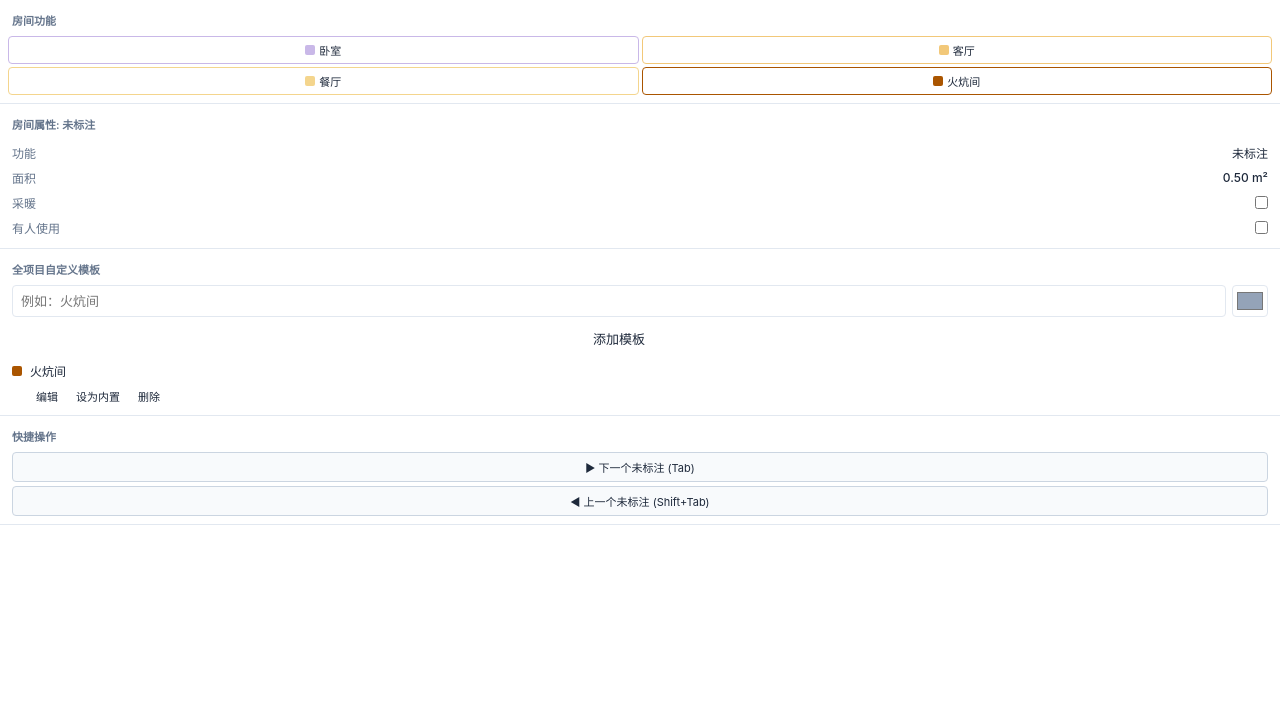
Scenario: RoomLabelPanel › creates and updates reusable templates
Expected: the button "火炕间" is shown, [642, 67, 1272, 95]
Type "储藏间" into the field named "自定义模板名称". click: (619, 301)
box: [12, 285, 1226, 317]
Type "#123456" into the colour field named "自定义模板颜色". click: (1250, 301)
box: [1232, 285, 1268, 317]
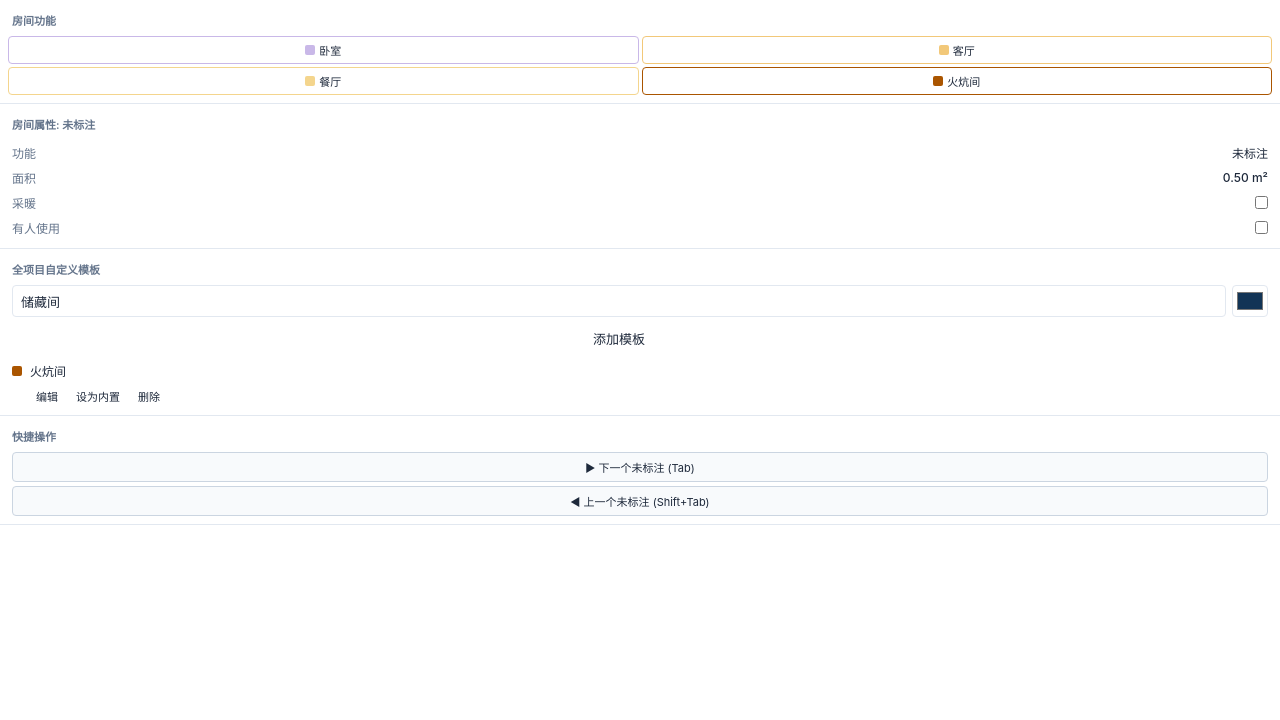
Click the button "添加模板". click: (619, 338)
box: [12, 323, 1226, 354]
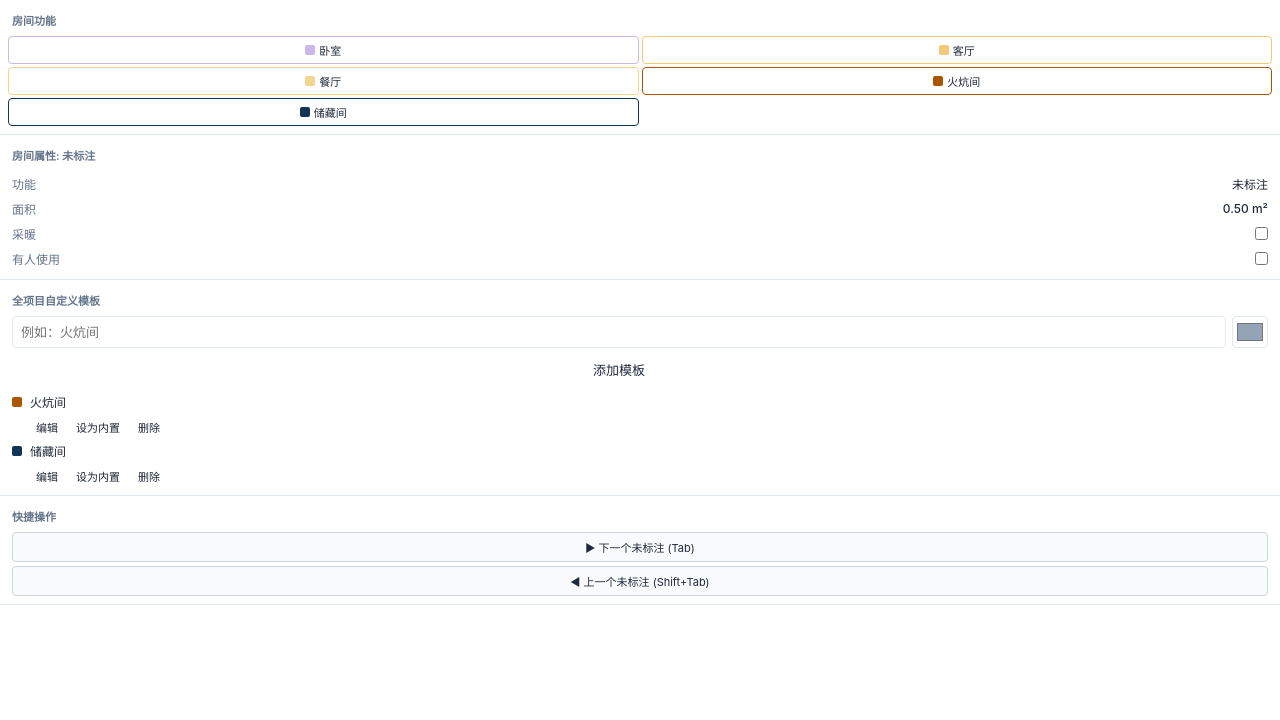
Expected: the button "储藏间" is shown, [8, 98, 638, 126]
Click the button with aria-label "编辑模板 火炕间". click: (47, 427)
box: [30, 416, 64, 438]
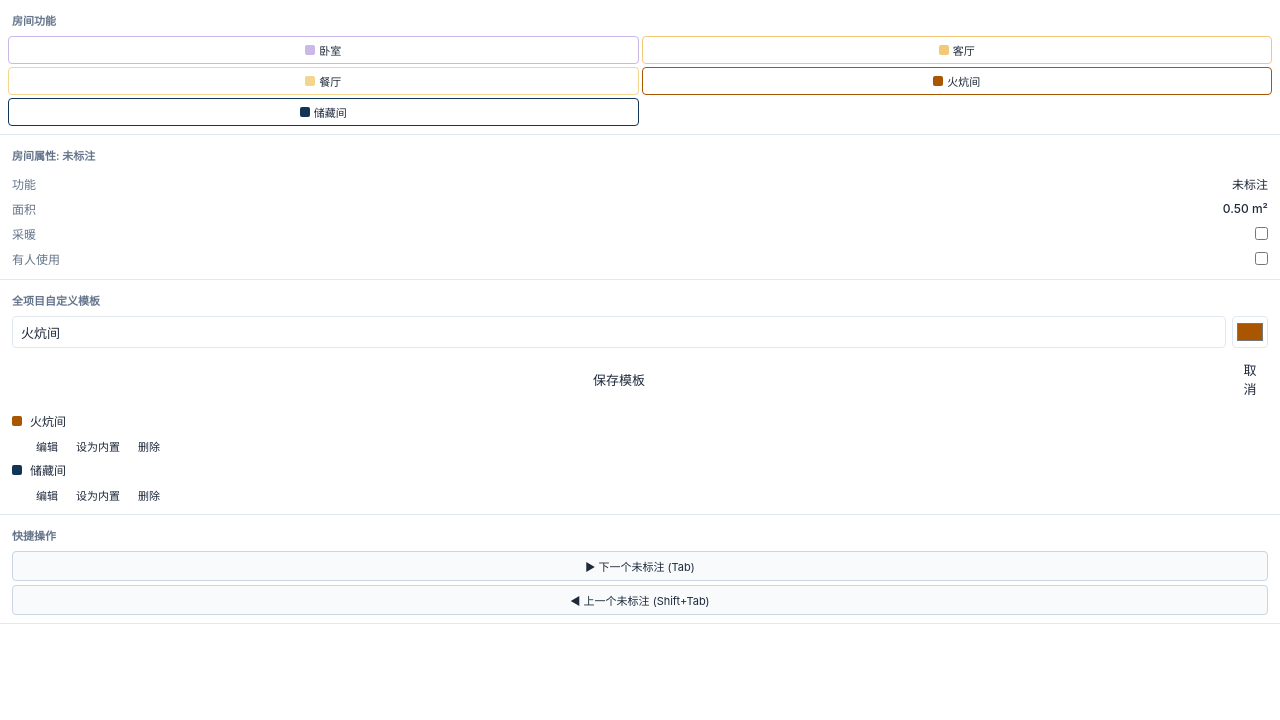
Replace the text in the field named "自定义模板名称" with "冬季起居室". click: (619, 332)
box: [12, 316, 1226, 348]
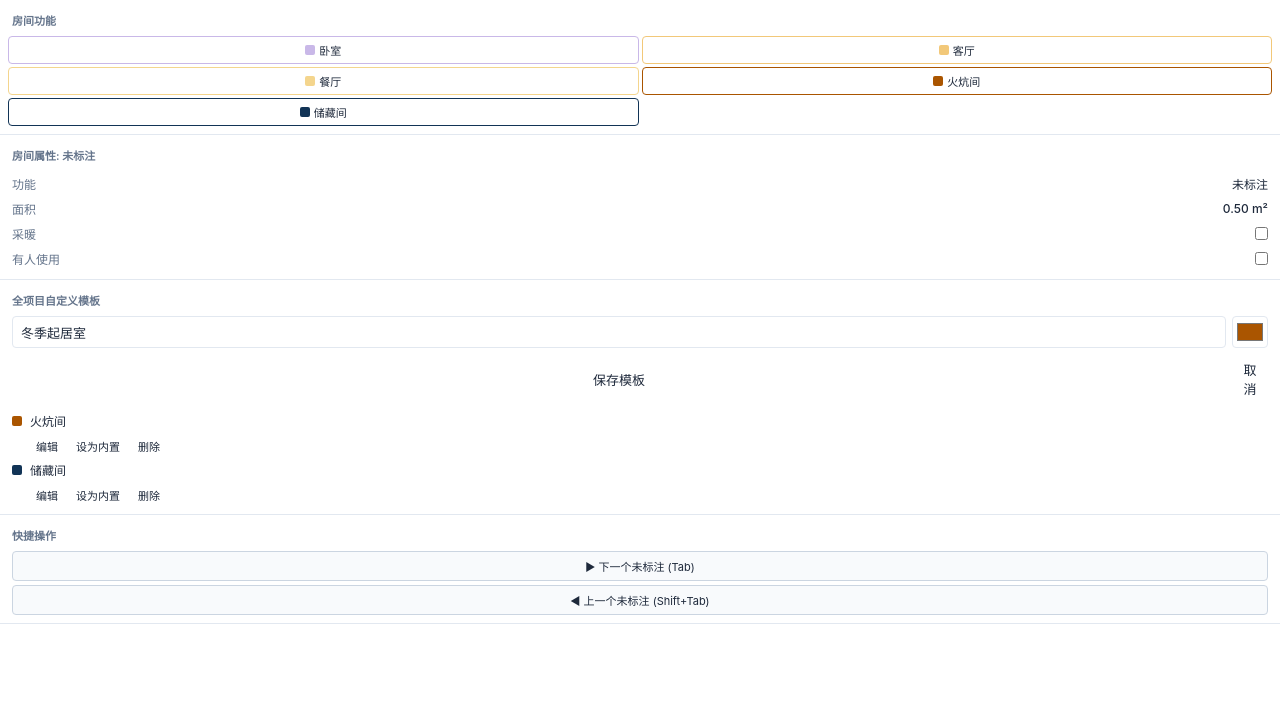
Type "#654321" into the colour field named "自定义模板颜色". click: (1250, 332)
box: [1232, 316, 1268, 348]
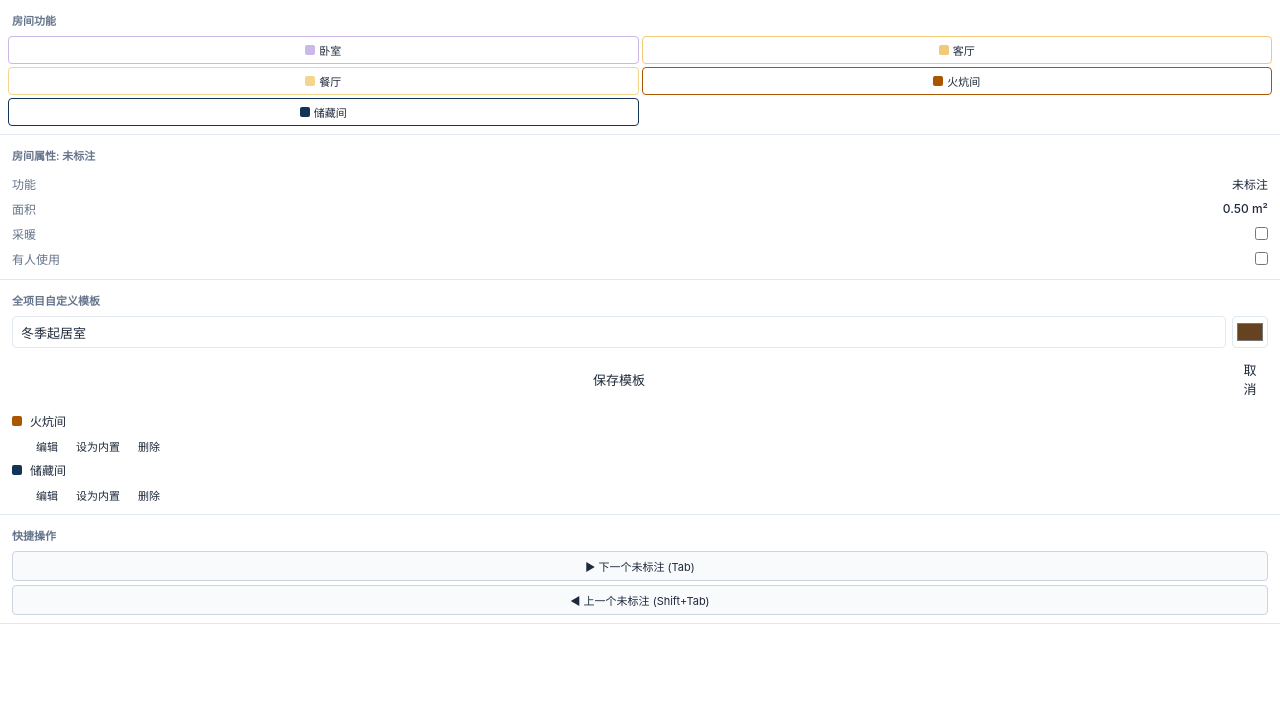
Click the button "保存模板". click: (619, 379)
box: [12, 354, 1226, 404]
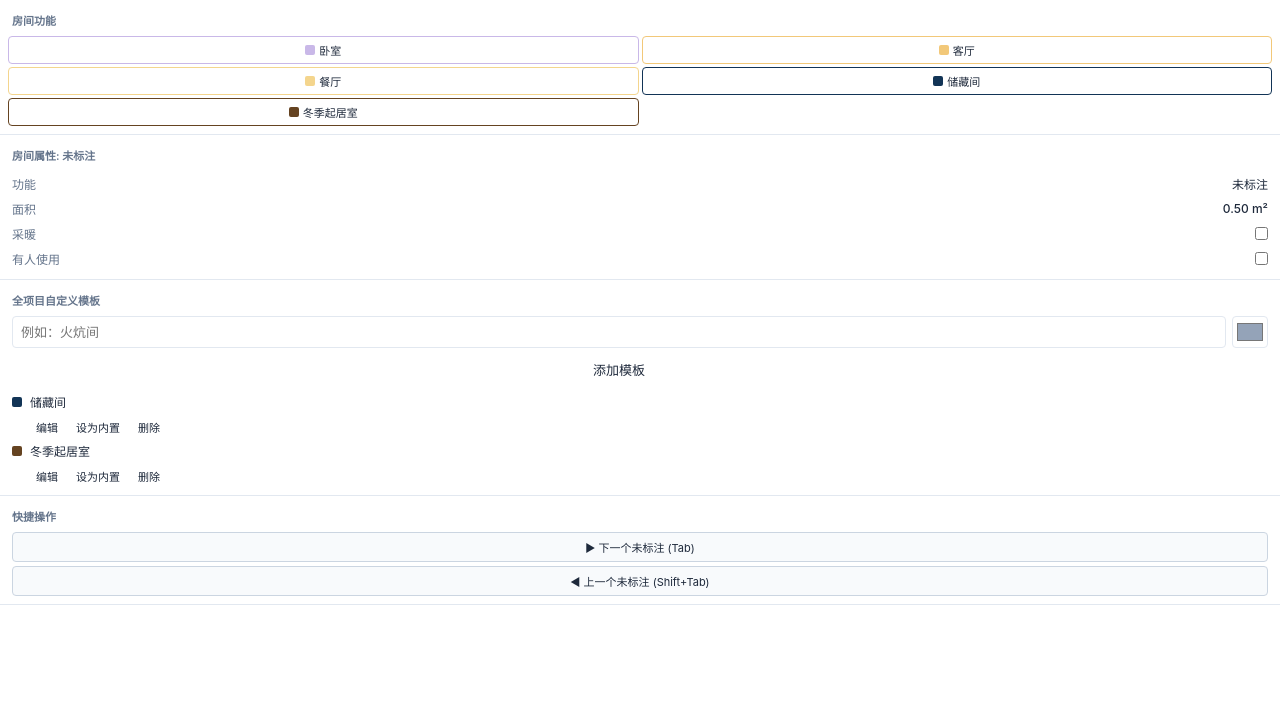
Expected: the text "冬季起居室" below "房间功能" is shown, [303, 106, 358, 120]
